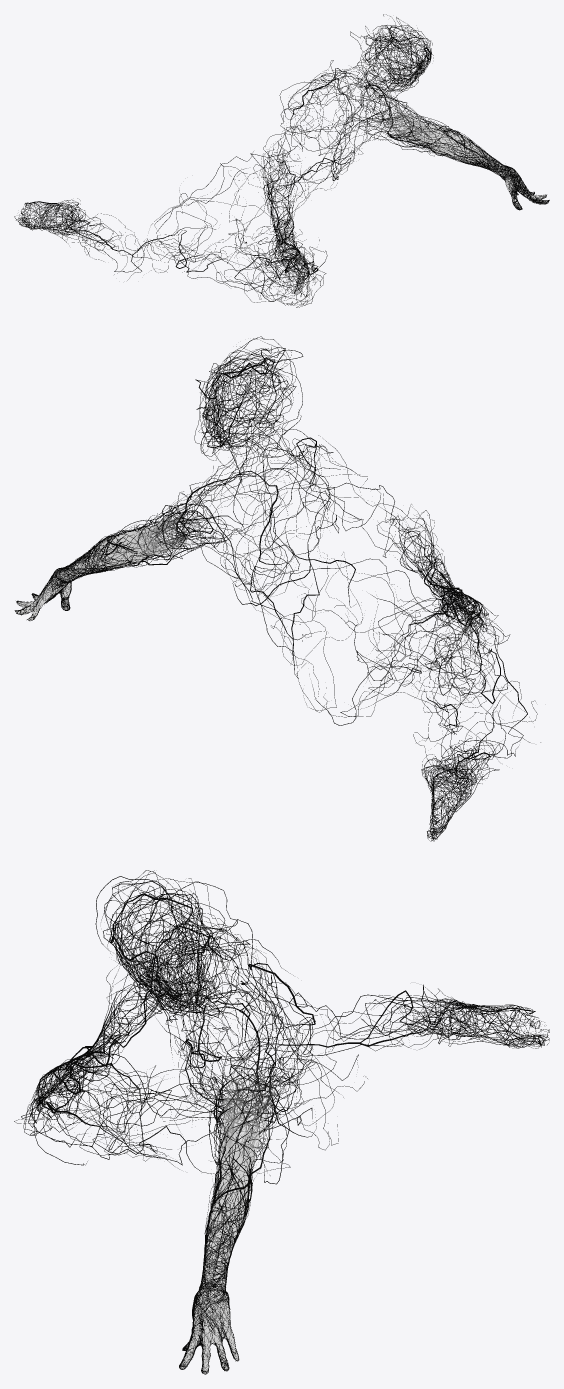
The model's file is model-2.CJyUDGgt.glb.
3 views of the same model, one above another, from view 1: azimuth 30°, elevation 25°; view 2: azimuth 150°, elevation 25°; view 3: azimuth 270°, elevation 25° (orthographic). The views are drawn at different scales.
Visible parts, largest first — view 1: veins, rndr_pose_04_v2; view 2: veins, rndr_pose_04_v2; view 3: veins, rndr_pose_04_v2.
Boxes of the visible parts, <box> form: veins: <box>14,14,549,307</box>; rndr_pose_04_v2: <box>380,104,547,208</box>; veins: <box>14,336,540,841</box>; rndr_pose_04_v2: <box>16,505,203,620</box>; veins: <box>14,870,549,1374</box>; rndr_pose_04_v2: <box>180,1070,275,1373</box>.
Bounding box in the file's own units: 1.47 × 0.7929 × 0.9798.
Materials: 2 (1 with a texture image).
